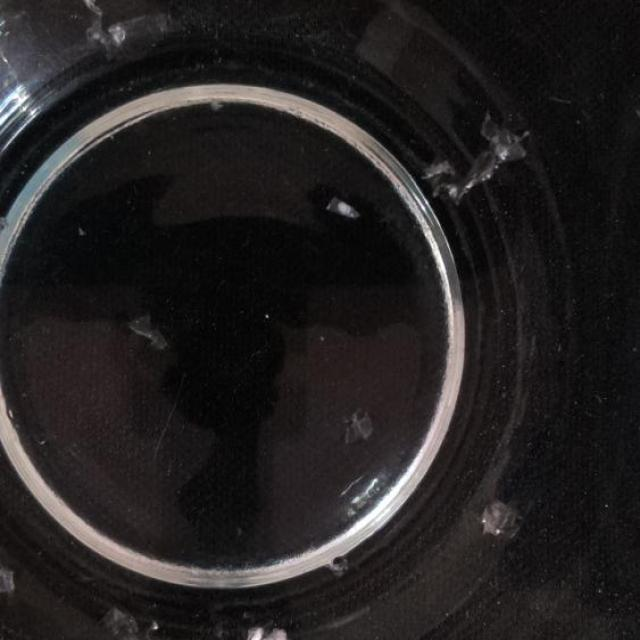fiber: (423, 112, 526, 206), (73, 0, 129, 64), (124, 306, 184, 356), (480, 493, 527, 546), (102, 604, 170, 639), (338, 406, 382, 450), (324, 191, 363, 224), (0, 559, 22, 610), (238, 622, 296, 639), (0, 202, 11, 256), (208, 95, 222, 114)
